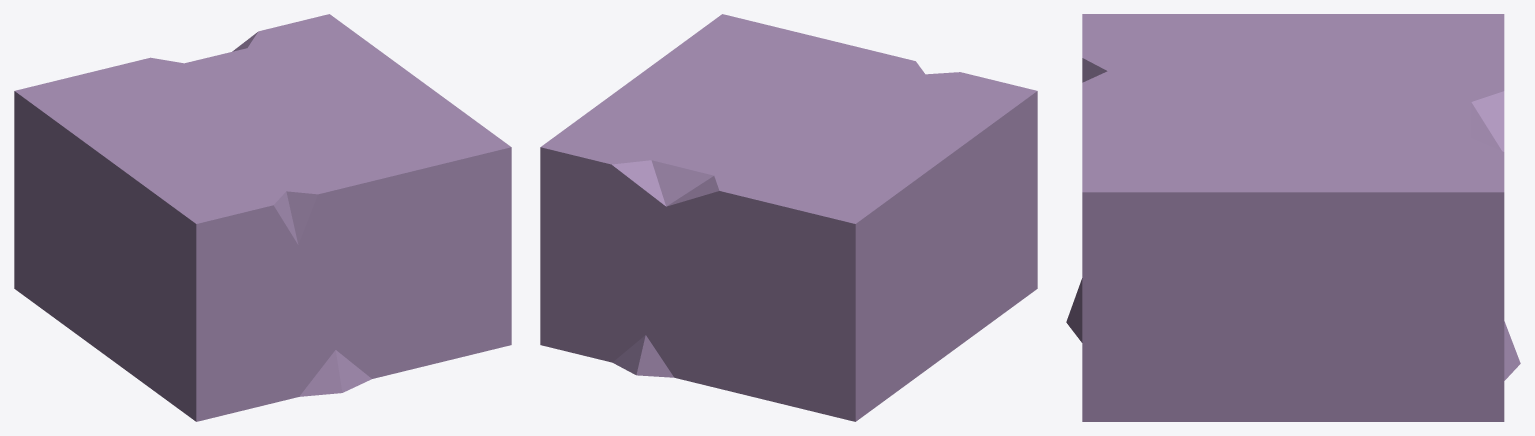
Rendered from Wall.001.fbx.
3 views of the same model, side by side, from view 1: azimuth 30°, elevation 25°; view 2: azimuth 150°, elevation 25°; view 3: azimuth 270°, elevation 25° (orthographic). The views are drawn at different scales.
Visible parts, largest first — view 1: Wall.001; view 2: Wall.001; view 3: Wall.001.
Boxes of the visible parts, bbox=[...] form: Wall.001: bbox=[14, 14, 511, 421]; Wall.001: bbox=[540, 14, 1037, 421]; Wall.001: bbox=[1066, 14, 1520, 421].
Bounding box in the file's own units: 1000 × 600 × 1077.
